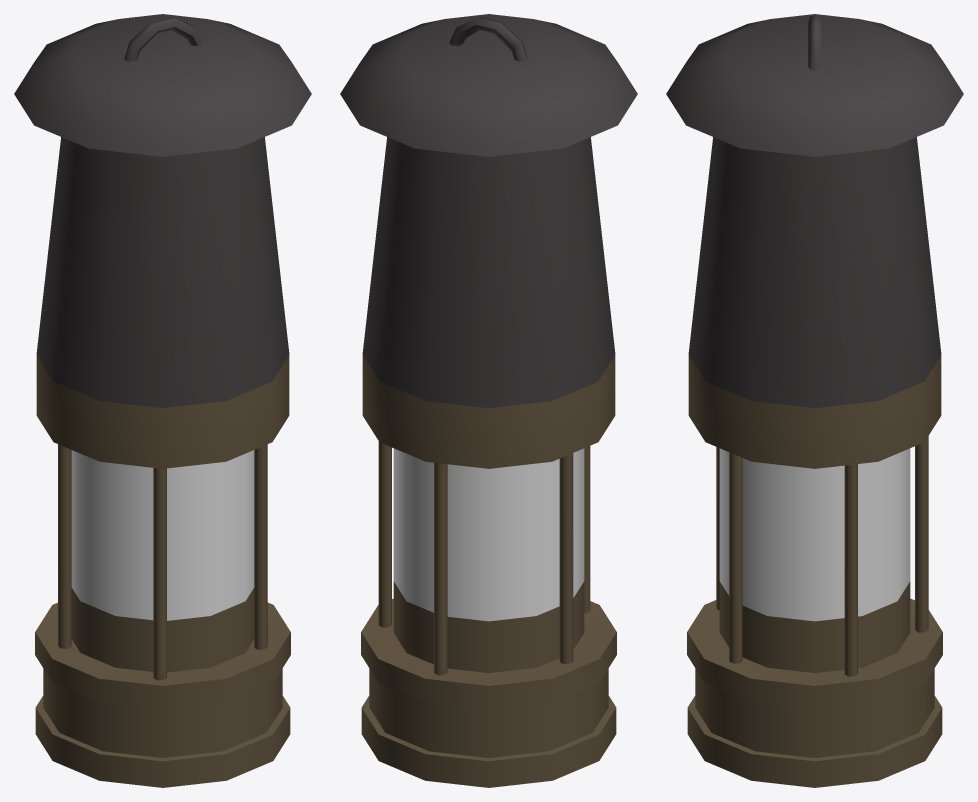
File: cave_lantern.fbx
3 views of the same model, side by side, from view 1: azimuth 30°, elevation 25°; view 2: azimuth 150°, elevation 25°; view 3: azimuth 270°, elevation 25° (orthographic).
Parts seen in each view (by area): view 1: Cylinder.002; view 2: Cylinder.002; view 3: Cylinder.002.
Boxes of the visible parts, x1=… form: Cylinder.002: x1=14, y1=14, x2=311, y2=787; Cylinder.002: x1=340, y1=14, x2=637, y2=787; Cylinder.002: x1=666, y1=14, x2=963, y2=787.
Bounding box in the file's own units: 69.42 × 184 × 69.42.
